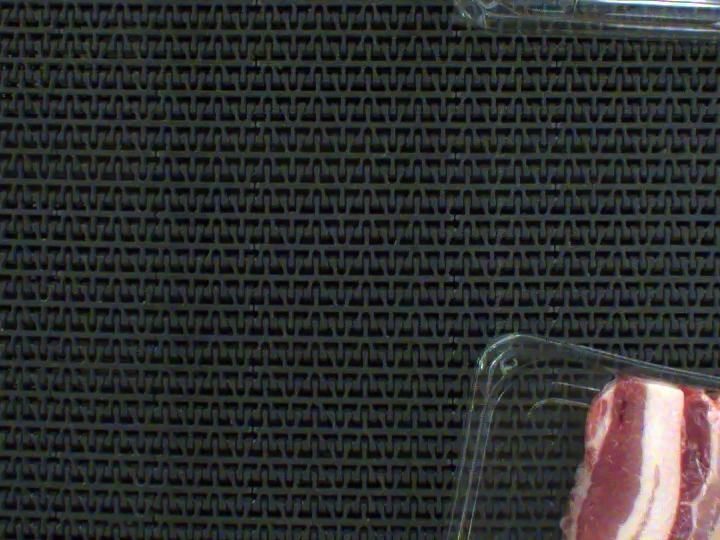packaging-error: (575, 340, 720, 483)
